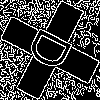D: (25, 25, 83, 78)
